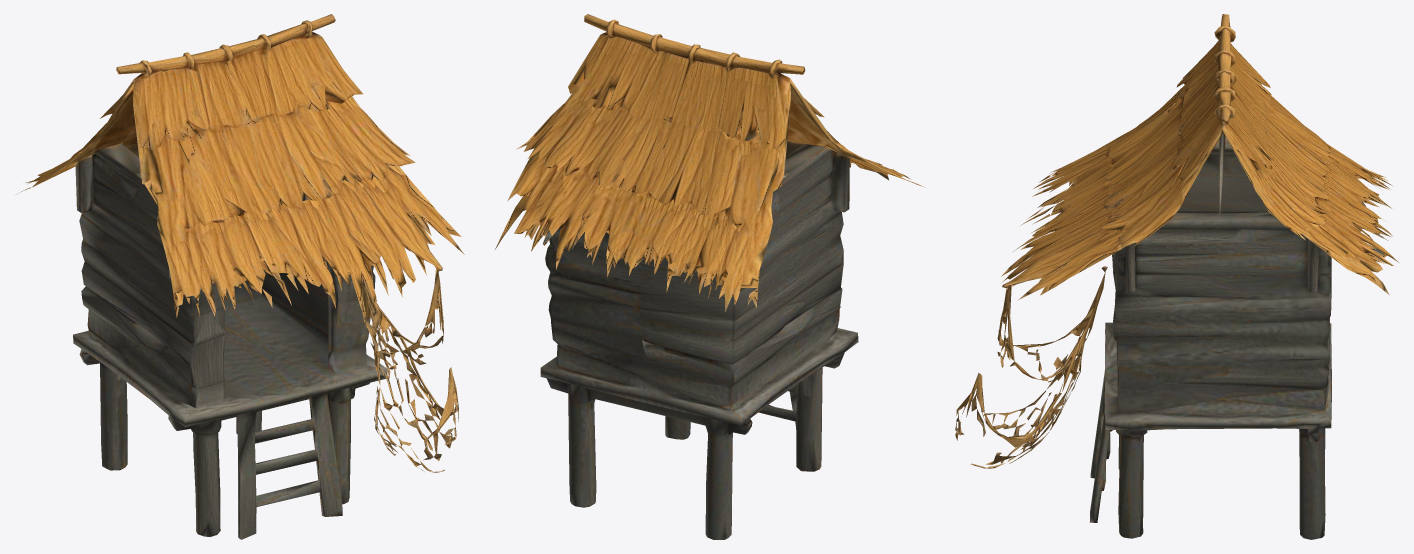
Rendered from fisher_hut.glb.
3 views of the same model, side by side, from view 1: azimuth 30°, elevation 25°; view 2: azimuth 150°, elevation 25°; view 3: azimuth 270°, elevation 25° (orthographic).
Bounding box in the file's own units: 1.21 × 1.82 × 1.67.
Materials: 1 (1 with a texture image).
